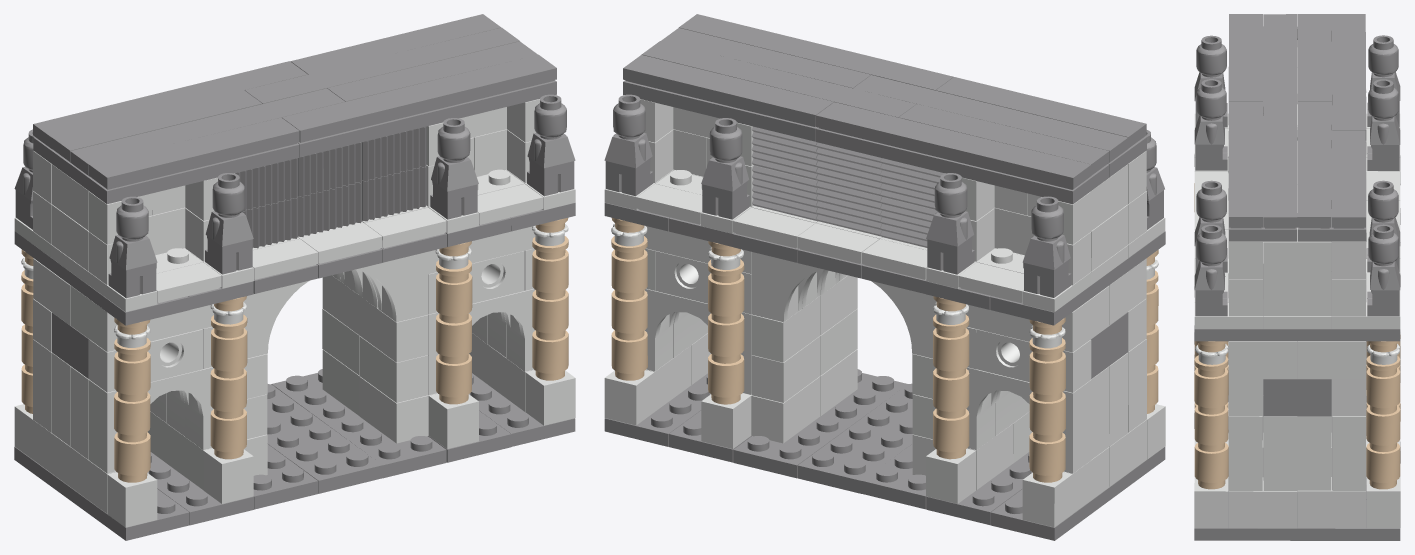
The model's file is arch-b.glb.
3 views of the same model, side by side, from view 1: azimuth 30°, elevation 25°; view 2: azimuth 150°, elevation 25°; view 3: azimuth 270°, elevation 25° (orthographic). The views are drawn at different scales.
Visible parts, largest first — view 1: L25-007, L00-003, L25-006, L10-018, L00-004, L25-004, L25-000, L25-003, L04-014, L25-002, L24-003, L18-022 (+90 smaller); view 2: L25-000, L00-003, L25-001, L10-007, L00-004, L25-004, L25-007, L25-003, L04-004, L24-000, L25-006, L25-002 (+90 smaller); view 3: L25-003, L25-007, L25-004, L25-000, L25-005, L25-001, L25-002, L25-006, L00-006, L16-006, L18-003, L18-025 (+44 smaller).
Part boxes in pixels (x1,y1,x2,y2): L25-007: [282, 54, 556, 142]; L00-003: [267, 384, 382, 493]; L25-006: [89, 117, 299, 189]; L10-018: [243, 251, 428, 358]; L00-004: [271, 369, 446, 478]; L25-004: [70, 88, 344, 176]; L25-000: [33, 61, 307, 148]; L25-003: [244, 27, 519, 103]; L04-014: [89, 367, 213, 473]; L25-002: [51, 90, 262, 161]; L24-003: [298, 80, 556, 157]; L18-022: [108, 196, 157, 298]; L25-000: [816, 102, 1091, 189]; L00-003: [797, 383, 912, 493]; L25-001: [623, 55, 833, 126]; L10-007: [751, 252, 936, 358]; L00-004: [733, 369, 907, 478]; L25-004: [853, 75, 1128, 162]; L25-007: [679, 14, 953, 90]; L25-003: [641, 41, 916, 117]; L04-004: [966, 367, 1091, 473]; L24-000: [816, 127, 1109, 204]; L25-006: [936, 77, 1146, 148]; L25-002: [899, 104, 1109, 175]; L25-003: [1297, 101, 1331, 228]; L25-007: [1229, 101, 1262, 228]; L25-004: [1263, 14, 1297, 140]; L25-000: [1331, 14, 1366, 140]; L25-005: [1263, 130, 1297, 228]; L25-001: [1331, 130, 1365, 228]; L25-002: [1297, 14, 1331, 101]; L25-006: [1229, 14, 1262, 101]; L00-006: [1194, 499, 1400, 540]; L16-006: [1194, 300, 1400, 341]; L18-003: [1367, 224, 1400, 316]; L18-025: [1194, 224, 1227, 316].
Bounding box in the file's own units: 0.112 × 0.0832 × 0.048.
